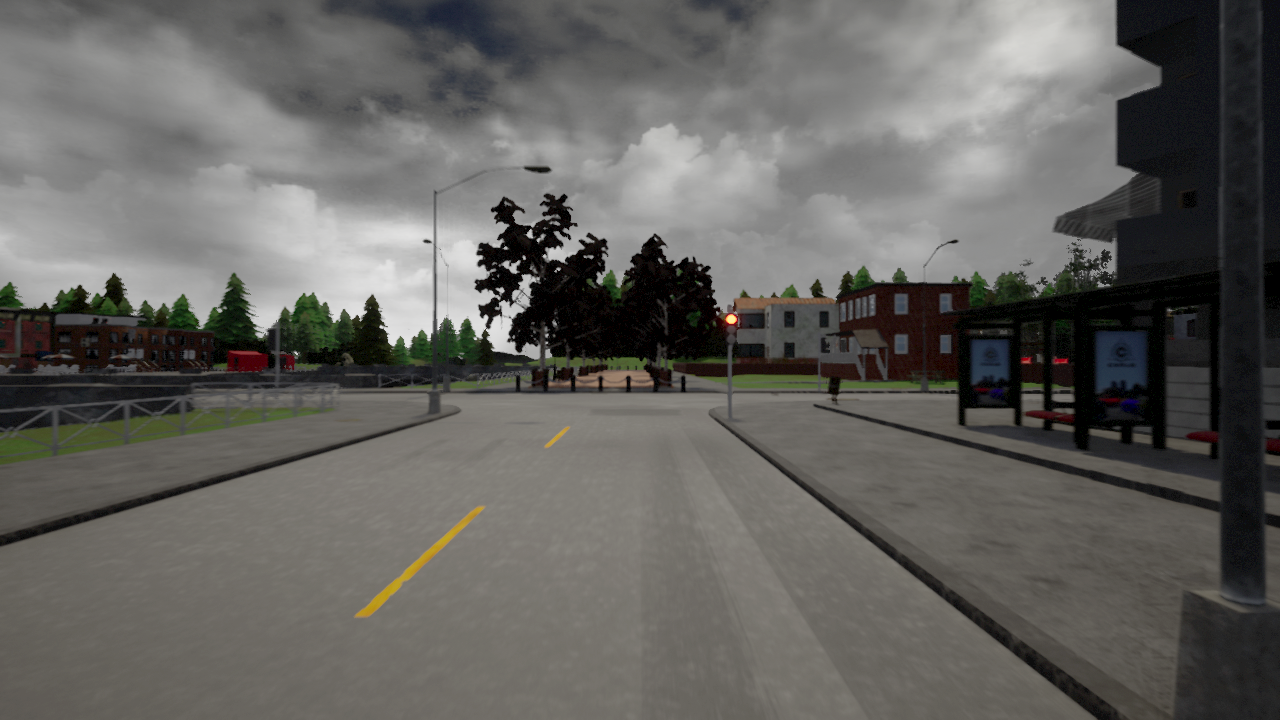red: (724, 312, 737, 344)
